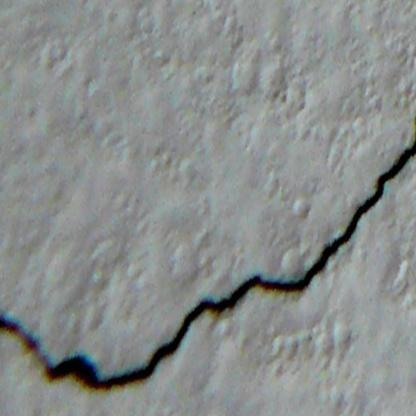Cracks: (0, 85, 416, 392)
